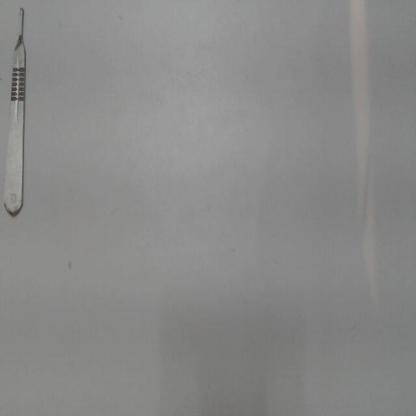No.3 BP Handle: (2, 3, 34, 218)
